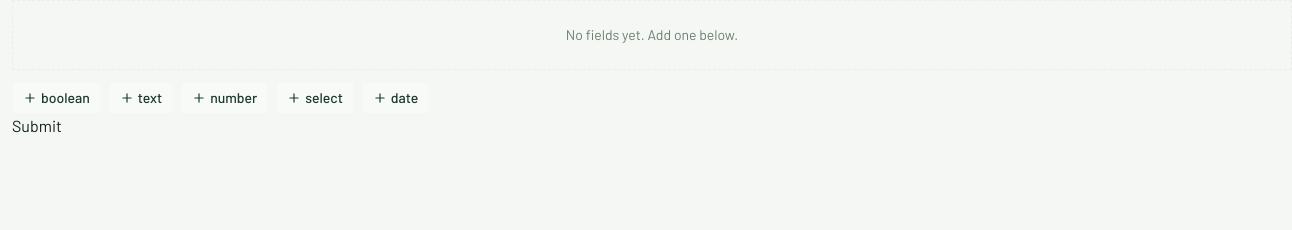
Scenario: FieldBuilder › shows min/max inputs only for number fields
This screenshot has width=1292, height=230.
Click the button "number": point(225, 98) [181,82,268,114]
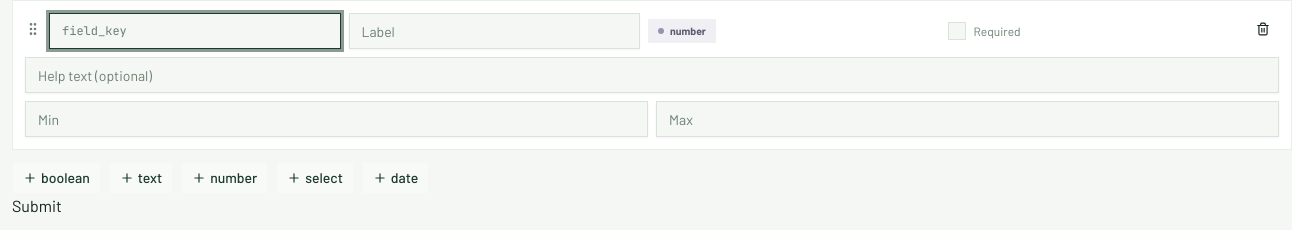
expect the number field with placeholder "Min" is shown: met, box [25,101,648,137]
expect the number field with placeholder "Max" is shown: met, box [656,101,1279,137]
